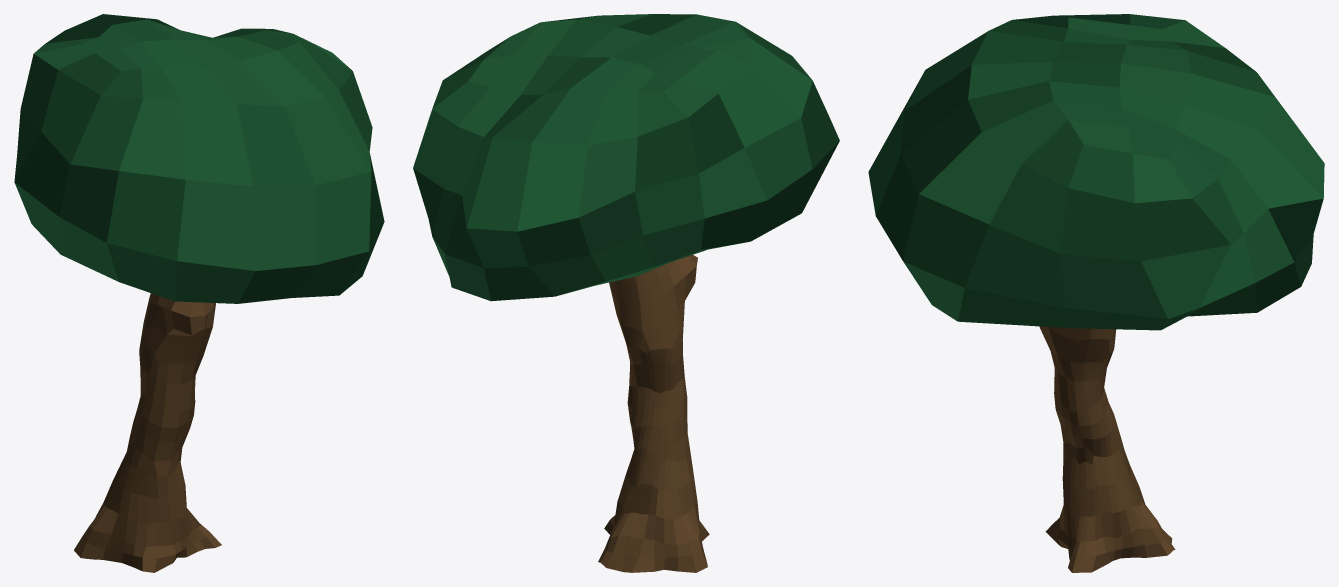
The model's file is arv4.fbx.
The picture shows the model from 3 angles, left to right: view 1: azimuth 30°, elevation 25°; view 2: azimuth 150°, elevation 25°; view 3: azimuth 270°, elevation 25°; orthographic projection. The views are drawn at different scales.
Parts seen in each view (by area): view 1: arvore4:arvore5; view 2: arvore4:arvore5; view 3: arvore4:arvore5.
Part boxes in pixels (left/top/right/bottom): arvore4:arvore5: left=14, top=14, right=384, bottom=572; arvore4:arvore5: left=413, top=14, right=839, bottom=572; arvore4:arvore5: left=868, top=14, right=1324, bottom=572.
Size of the model in its own units: 46.6 by 68.34 by 55.68.
